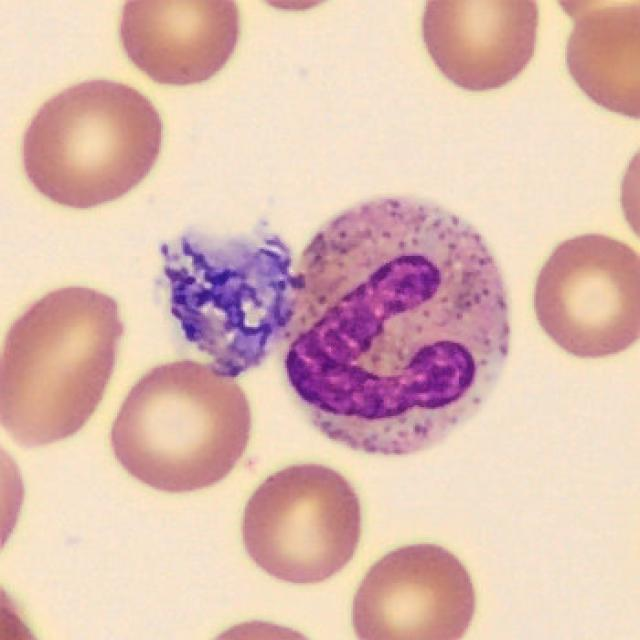Neutrofilo segmentado: (282, 197, 512, 457)
